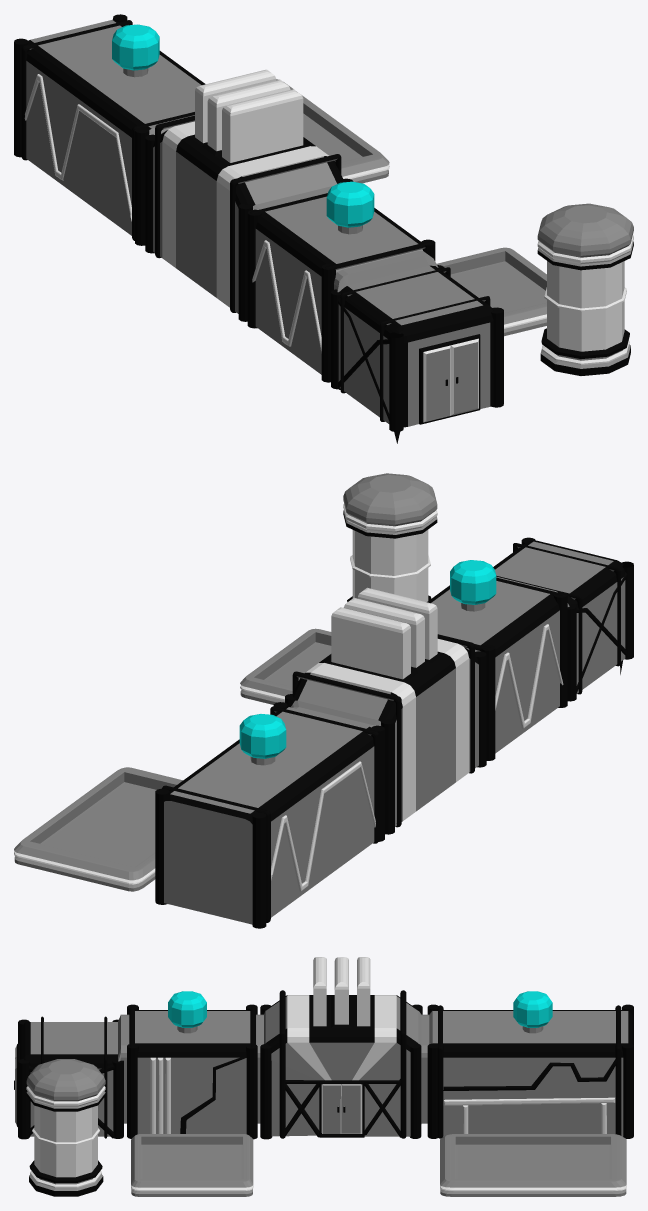
Rendered from Farm_fourth_level.fbx.
3 renders of one model, top to bottom at view 1: azimuth 30°, elevation 25°; view 2: azimuth 150°, elevation 25°; view 3: azimuth 270°, elevation 25°, orthographic. The views are drawn at different scales.
Visible parts, largest first — view 1: Cube, Cylinder, Cube.001, Cube.002; view 2: Cube, Cube.002, Cylinder, Cube.001; view 3: Cube, Cube.002, Cylinder, Cube.001.
Part boxes in pixels (x1,y1,x2,y2): Cube: (14,14,503,443); Cylinder: (537,203,633,375); Cube.001: (436,247,546,336); Cube.002: (276,79,389,183); Cube: (155,537,633,928); Cube.002: (14,767,182,891); Cylinder: (343,473,437,601); Cube.001: (240,628,331,704); Cube: (14,957,633,1139); Cube.002: (440,1134,626,1196); Cylinder: (26,1059,105,1196); Cube.001: (131,1134,253,1196).
Size of the model in its own units: 2365 by 1743 by 6021.
